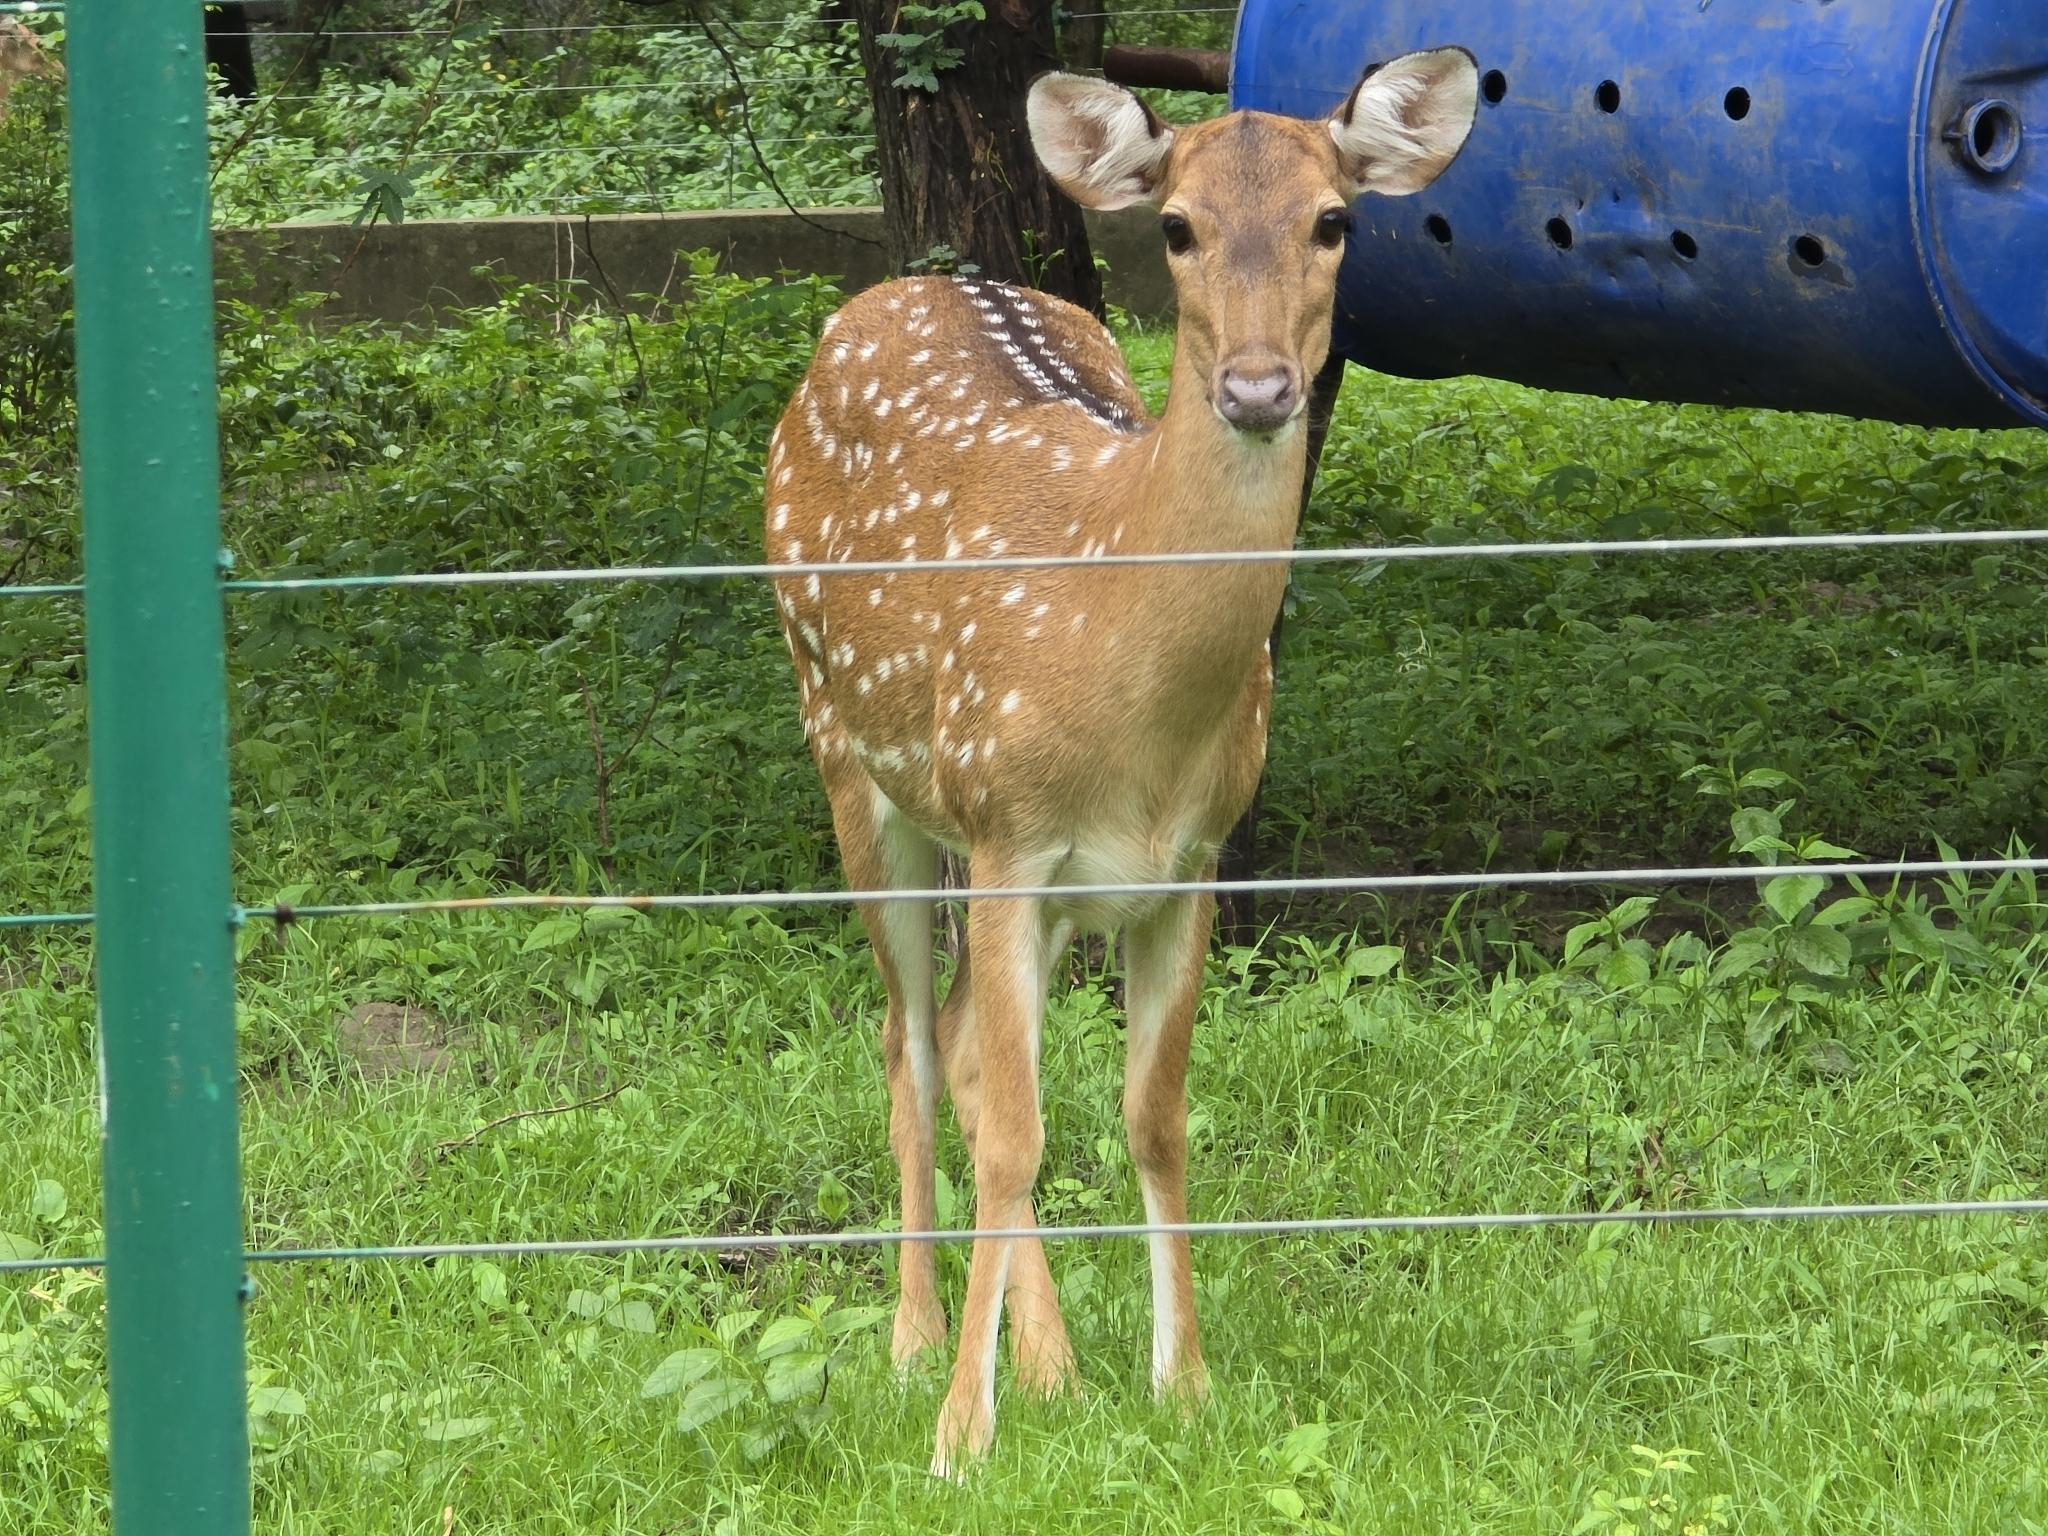Deer: (764, 47, 1474, 1475)
